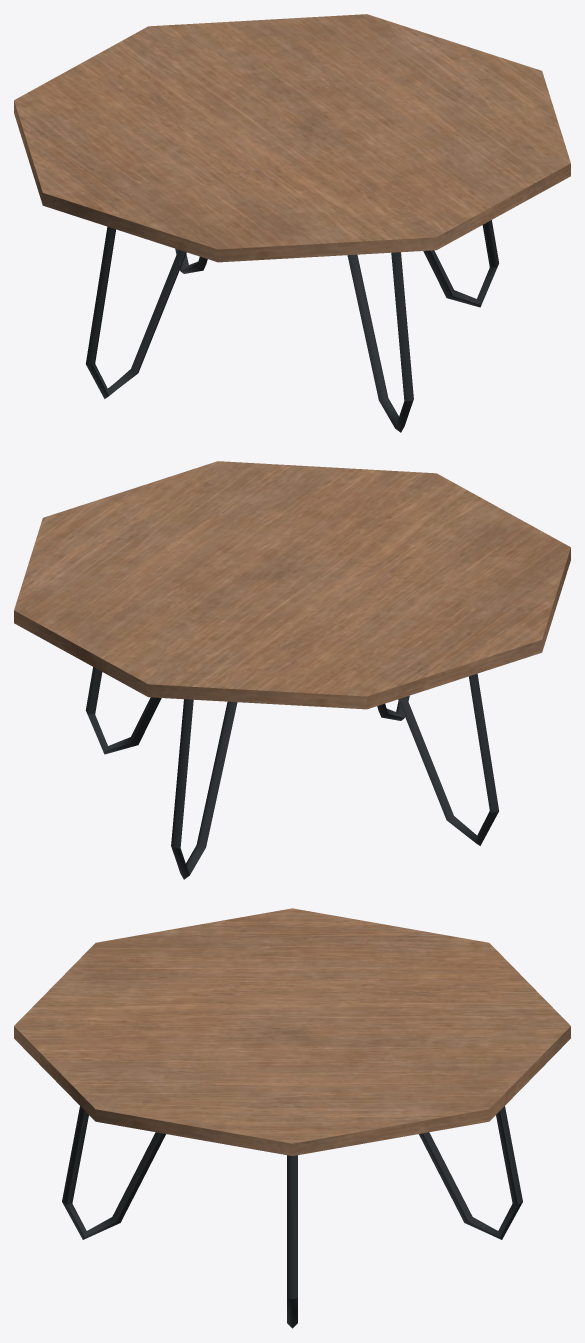
Rendered from Table_31.glb.
3 views of the same model, one above another, from view 1: azimuth 30°, elevation 25°; view 2: azimuth 150°, elevation 25°; view 3: azimuth 270°, elevation 25° (orthographic). The views are drawn at different scales.
Parts seen in each view (by area): view 1: Table_31; view 2: Table_31; view 3: Table_31.
Boxes of the visible parts, bbox=[...] form: Table_31: bbox=[14, 14, 570, 432]; Table_31: bbox=[14, 461, 570, 879]; Table_31: bbox=[14, 908, 570, 1328].
Bounding box in the file's own units: 1.3 × 0.5515 × 1.3.
Materials: 2 (2 with a texture image).
